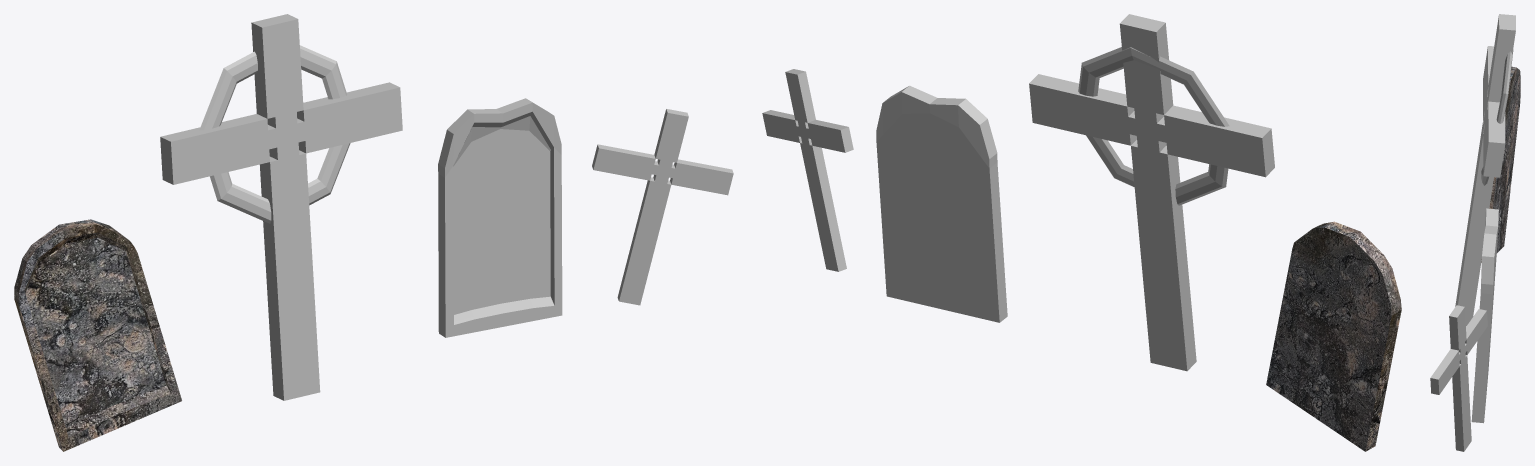
Rendered from start.fbx.
3 renders of one model, left to right at view 1: azimuth 30°, elevation 25°; view 2: azimuth 150°, elevation 25°; view 3: azimuth 270°, elevation 25°, orthographic. The views are drawn at different scales.
Visible parts, largest first — view 1: headusOBJexport125; view 2: headusOBJexport125; view 3: headusOBJexport125.
Part boxes in pixels (x1,y1,x2,y2): headusOBJexport125: (14, 14, 733, 451); headusOBJexport125: (762, 14, 1401, 451); headusOBJexport125: (1430, 14, 1520, 451).
Bounding box in the file's own units: 156 × 82.47 × 21.46.
